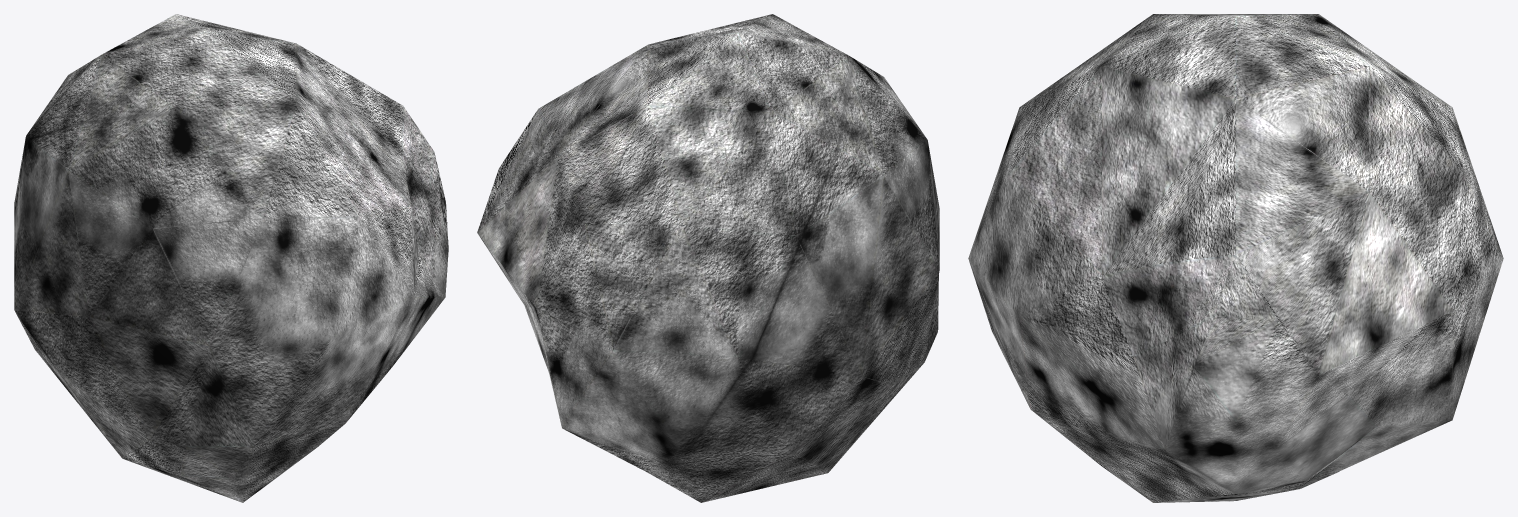
The model's file is asteroid.glb.
The picture shows the model from 3 angles, left to right: view 1: azimuth 30°, elevation 25°; view 2: azimuth 150°, elevation 25°; view 3: azimuth 270°, elevation 25°; orthographic projection. The views are drawn at different scales.
Visible parts, largest first — view 1: Asteroid; view 2: Asteroid; view 3: Asteroid.
Part boxes in pixels (x1,y1,x2,y2): Asteroid: (14,14,448,502); Asteroid: (477,14,939,502); Asteroid: (968,14,1503,502).
Bounding box in the file's own units: 4.86 × 5.36 × 5.36.
1 material, 1 textured.
